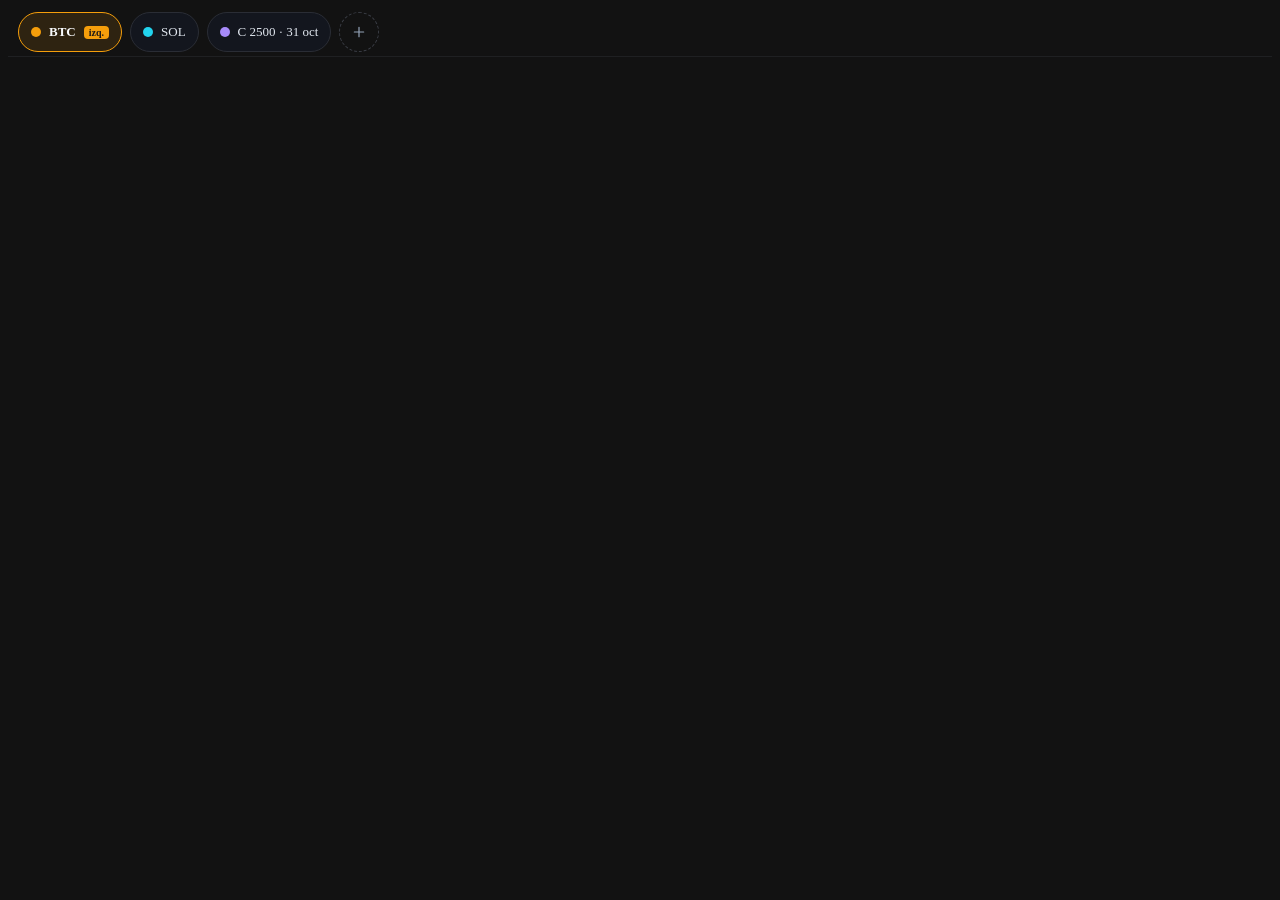
Test case: OverlayChips (móvil) › tocar el enfocado (activo) abre "Acciones" con "Ver en grande"
What coordinates should you click on to do the following:
click the button with aria-label "BTC/USDT"
I would click on:
 (70, 32)
Its box is [16,10,124,54].
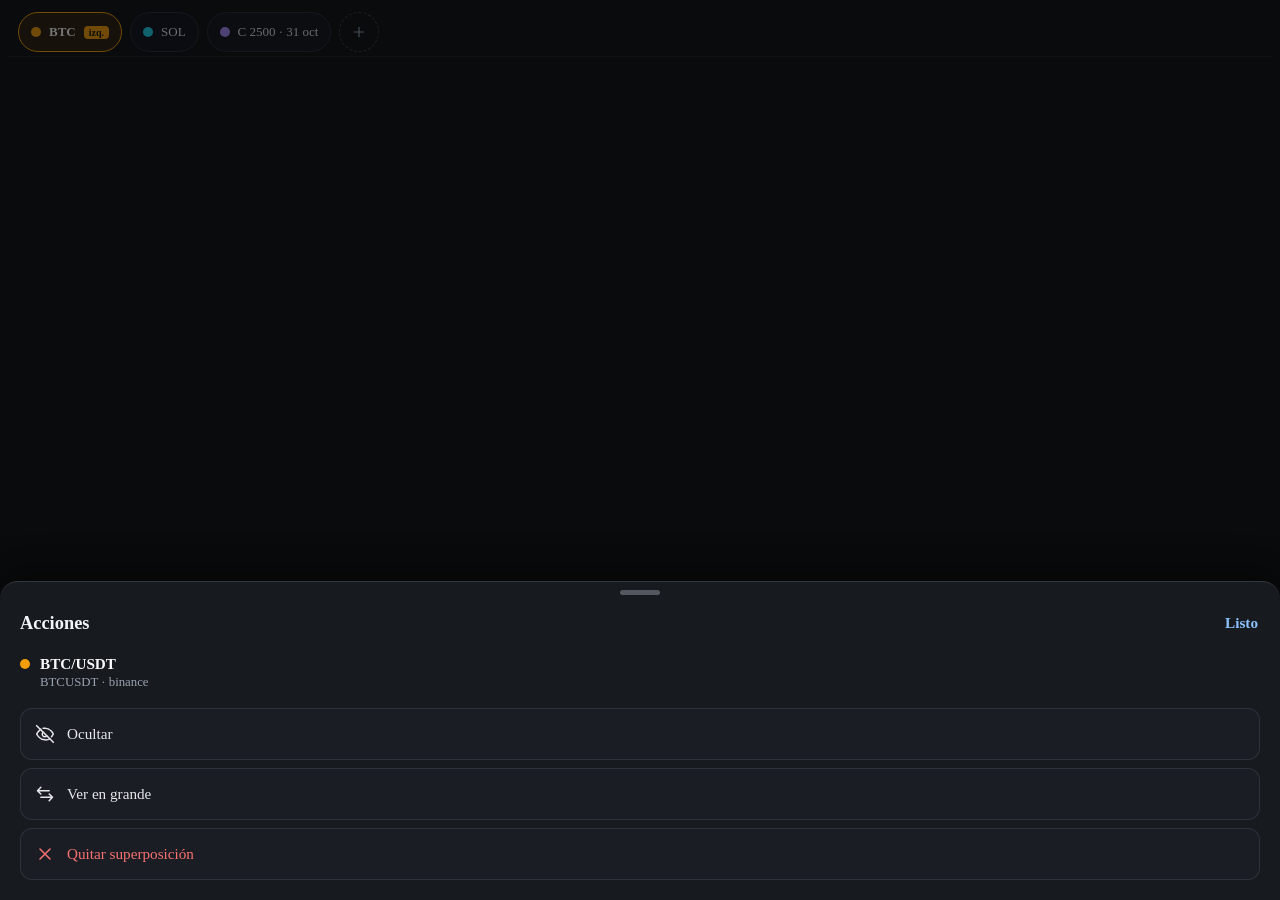
Result: the button "Ocultar" is shown at [20,708,1260,760]
Result: the button "Quitar superposición" is shown at [20,828,1260,880]
What coordinates should you click on to do the following:
click the button "Ver en grande"
I would click on:
 (109, 794)
Its box is [20,768,1260,820].
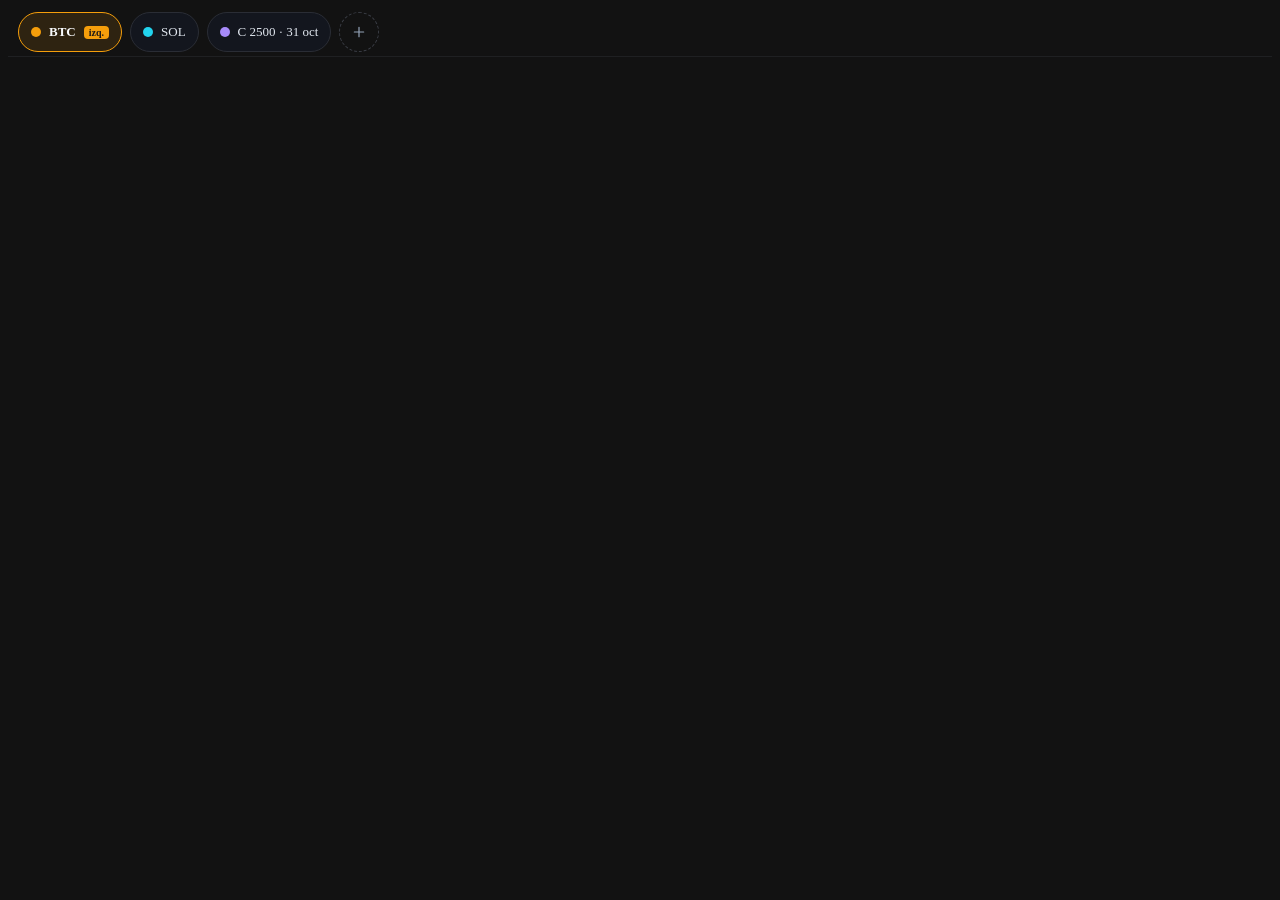
Result: the dialog is gone
